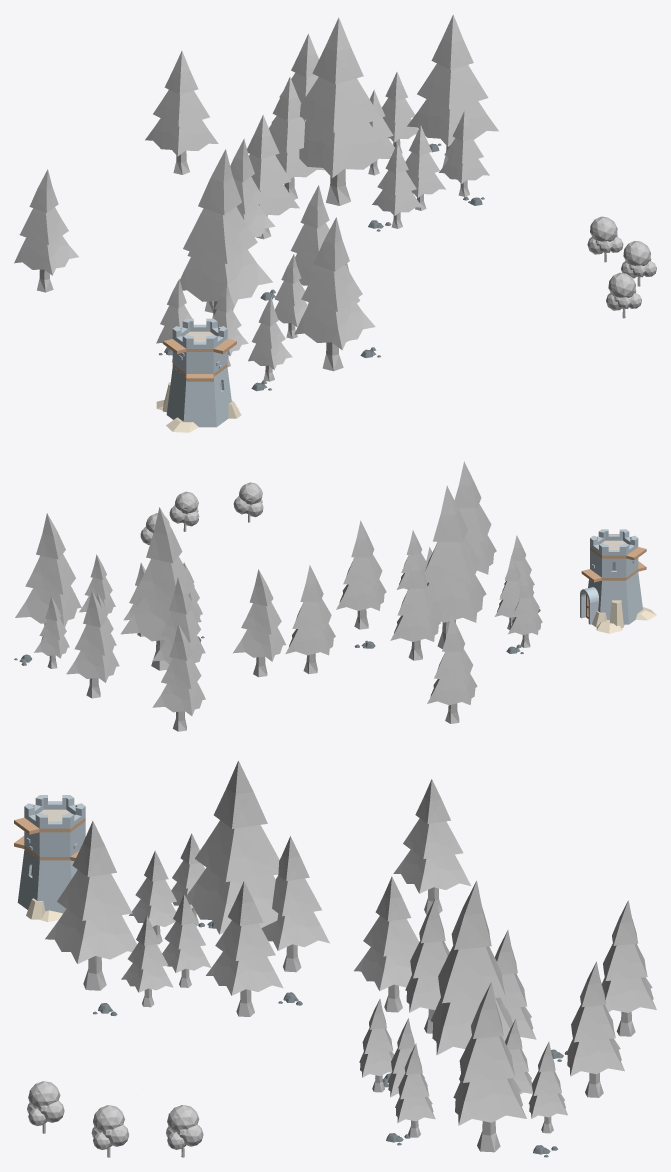
The model's file is nature.gltf.
3 views of the same model, one above another, from view 1: azimuth 30°, elevation 25°; view 2: azimuth 150°, elevation 25°; view 3: azimuth 270°, elevation 25° (orthographic). The views are drawn at different scales.
Visible parts, largest first — view 1: tree-spruce.004, tree-spruce.015, tower, tree-spruce.012, tree-spruce.001, tree-spruce.005, tree-spruce.019, tree-spruce.008, tree-spruce.007, tree-spruce.014, tree-spruce, tree-spruce.006 (+12 smaller); view 2: tower, tree-spruce.015, tree-spruce.004, tree-spruce.001, tree-spruce.008, tree-spruce.003, tree-spruce.005, tree-spruce.014, tree-spruce.019, tree-spruce.016, tree-spruce.018, tree-spruce.012 (+9 smaller); view 3: tree-spruce.015, tree-spruce.012, tree-spruce.004, tower, tree-spruce.001, tree-spruce.014, tree-spruce.019, tree-spruce.016, tree-spruce.018, tree-spruce.003, tree-spruce.005, tree-spruce.008 (+14 smaller).
Boxes of the visible parts, x1,y1,x2,y2 form: tree-spruce.004: (299,17,391,205); tree-spruce.015: (180,149,272,318); tower: (156,318,241,432); tree-spruce.012: (294,217,375,371); tree-spruce.001: (407,14,498,166); tree-spruce.005: (145,51,218,174); tree-spruce.019: (14,169,78,292); tree-spruce.008: (247,115,299,239); tree-spruce.007: (269,77,324,199); tree-spruce.014: (290,185,329,304); tree-spruce: (439,111,489,196); tree-spruce.006: (372,143,422,228); tower: (580,529,656,633); tree-spruce.015: (425,485,486,648); tree-spruce.004: (120,507,201,670); tree-spruce.001: (15,513,81,640); tree-spruce.008: (233,569,285,677); tree-spruce.003: (66,590,119,698); tree-spruce.005: (152,624,205,731); tree-spruce.014: (336,520,386,629); tree-spruce.019: (427,615,477,723); tree-spruce.016: (285,565,335,673); tree-spruce.018: (390,551,440,660); tree-spruce.012: (454,461,496,574); tree-spruce.015: (186,760,279,934); tree-spruce.012: (45,821,136,990); tree-spruce.004: (430,880,512,1081); tower: (14,795,85,921); tree-spruce.001: (453,982,526,1152); tree-spruce.014: (206,881,283,1016); tree-spruce.019: (393,779,470,914); tree-spruce.016: (354,876,419,1012); tree-spruce.018: (261,836,329,972); tree-spruce.003: (566,961,624,1097); tree-spruce.005: (602,900,656,1036); tree-spruce.008: (405,897,449,1033).
Bounding box in the file's own units: 42.54 × 14.37 × 40.92.
